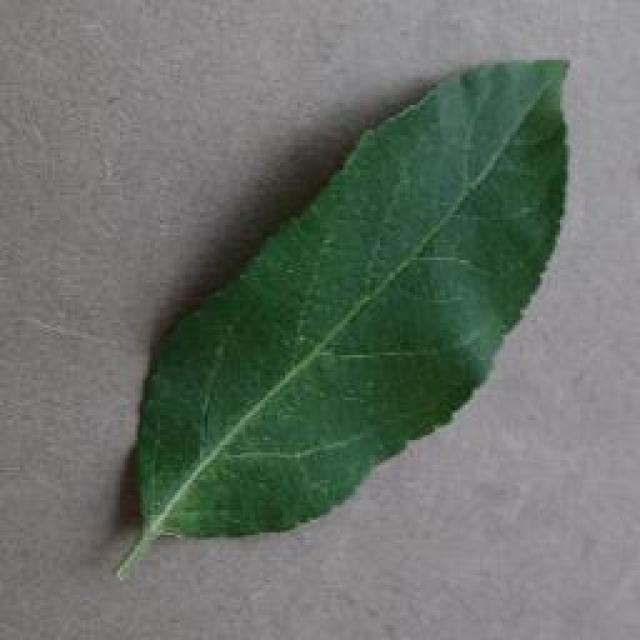apple healthy: (112, 52, 572, 578)
